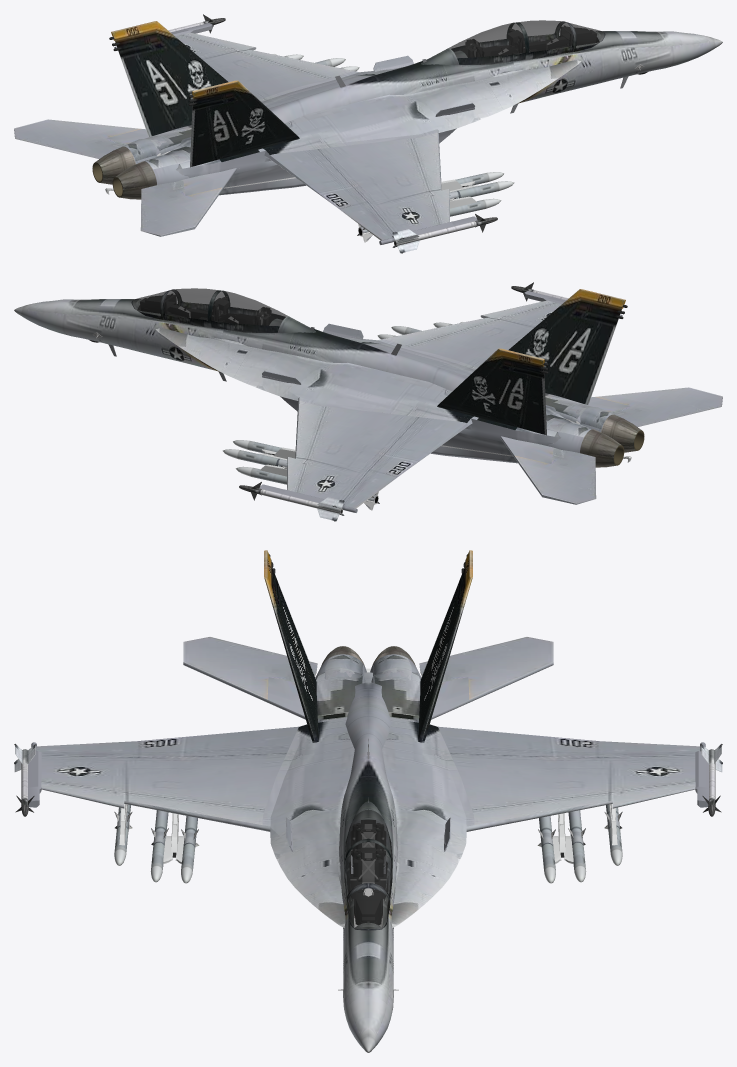
3 renders of one model, top to bottom at view 1: azimuth 30°, elevation 25°; view 2: azimuth 150°, elevation 25°; view 3: azimuth 270°, elevation 25°, orthographic. The views are drawn at different scales.
Parts seen in each view (by area): view 1: FA18_2; view 2: FA18_2; view 3: FA18_2.
Boxes of the visible parts, x1=… form: FA18_2: x1=14, y1=14, x2=722, y2=253; FA18_2: x1=14, y1=282, x2=722, y2=521; FA18_2: x1=14, y1=550, x2=722, y2=1052.
Bounding box in the file's own units: 18.07 × 3.86 × 13.63.
Materials: 31 (9 with a texture image).
